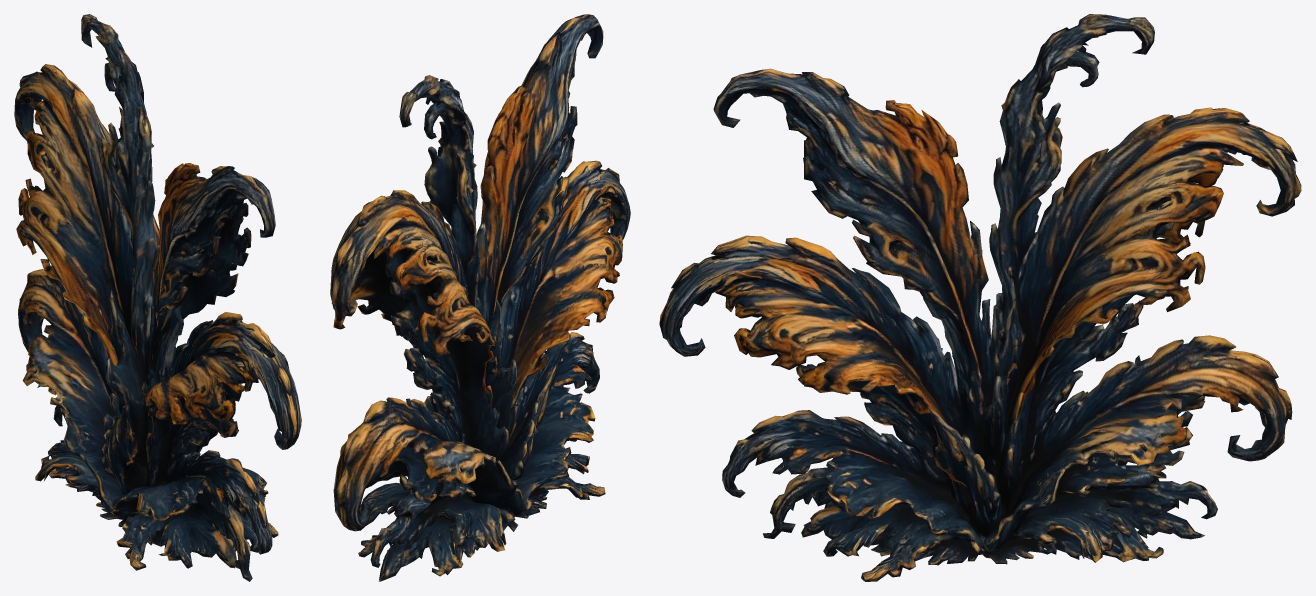
File: paint+splash+3d+model+1k.glb
3 renders of one model, left to right at view 1: azimuth 30°, elevation 25°; view 2: azimuth 150°, elevation 25°; view 3: azimuth 270°, elevation 25°, orthographic. The views are drawn at different scales.
Visible parts, largest first — view 1: tripo_node_7afd4645-0a43-409a-9d5a-f2d1b929fe67; view 2: tripo_node_7afd4645-0a43-409a-9d5a-f2d1b929fe67; view 3: tripo_node_7afd4645-0a43-409a-9d5a-f2d1b929fe67.
Part boxes in pixels (x1,y1,x2,y2): tripo_node_7afd4645-0a43-409a-9d5a-f2d1b929fe67: (14, 14, 301, 581); tripo_node_7afd4645-0a43-409a-9d5a-f2d1b929fe67: (330, 14, 630, 581); tripo_node_7afd4645-0a43-409a-9d5a-f2d1b929fe67: (659, 14, 1301, 581).
Bounding box in the file's own units: 0.306 × 0.9084 × 1.
1 material, 1 textured.
